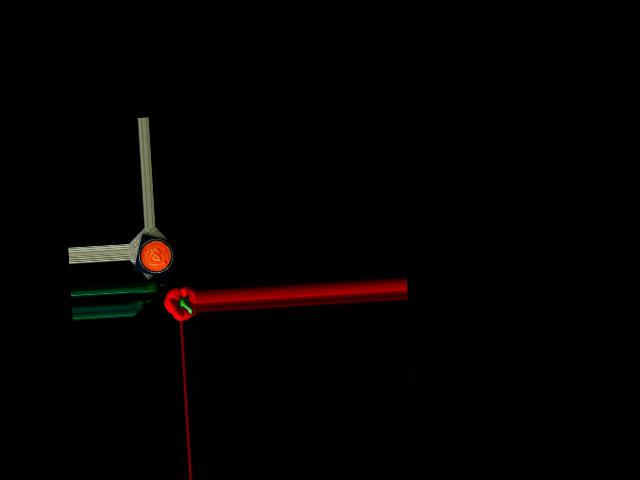bell_pepper: (164, 285, 196, 321)
